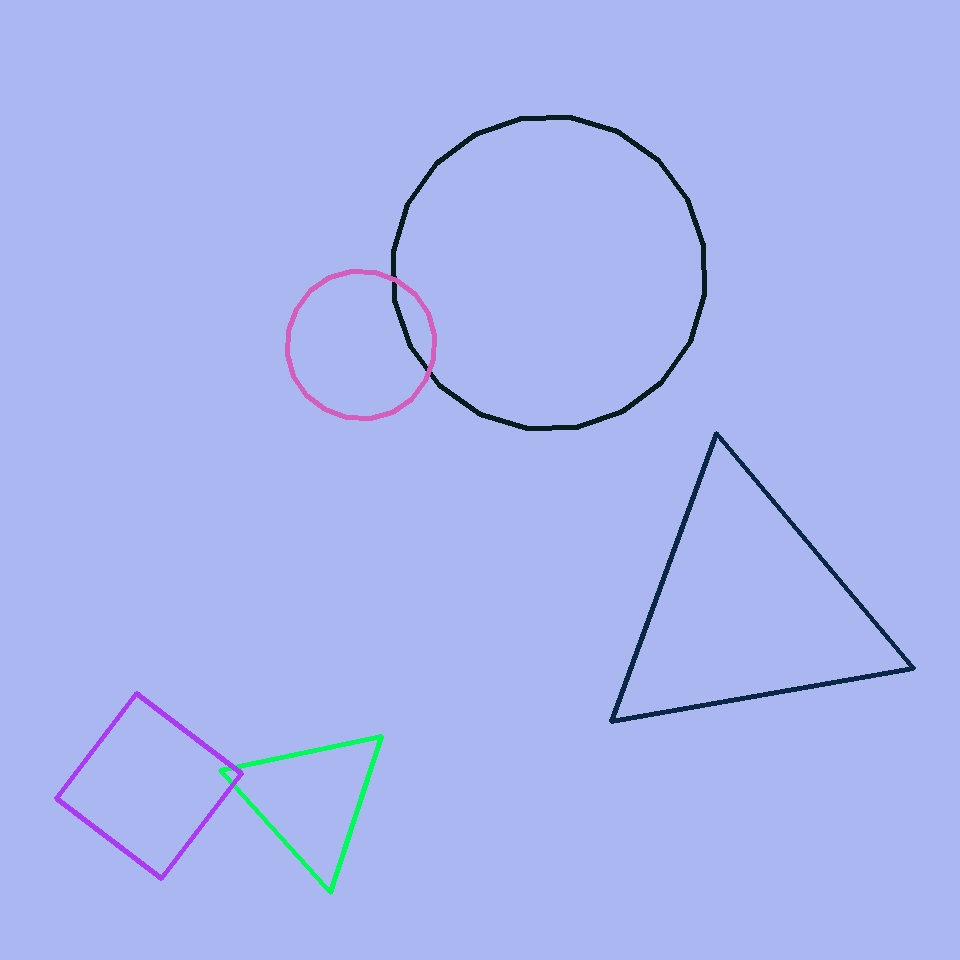circle: (596, 464, 898, 752), (230, 722, 392, 878)
square: (56, 694, 242, 878)
triangle: (394, 117, 704, 428), (287, 272, 434, 418)
